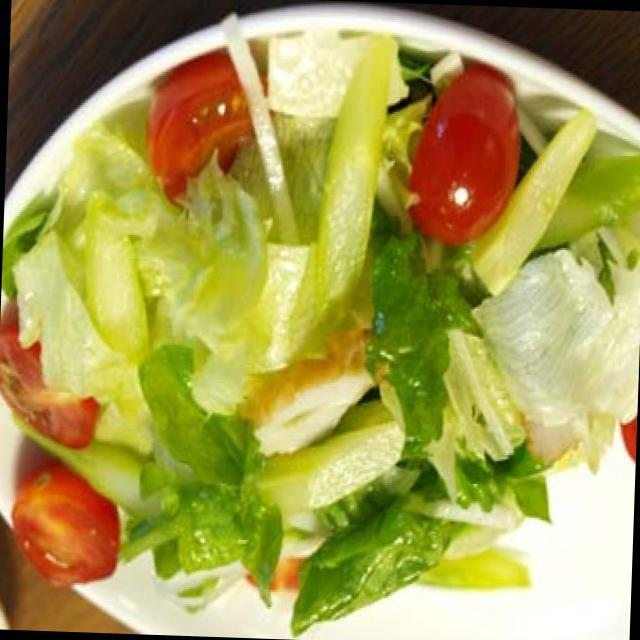Green Salad: (22, 78, 640, 613)
